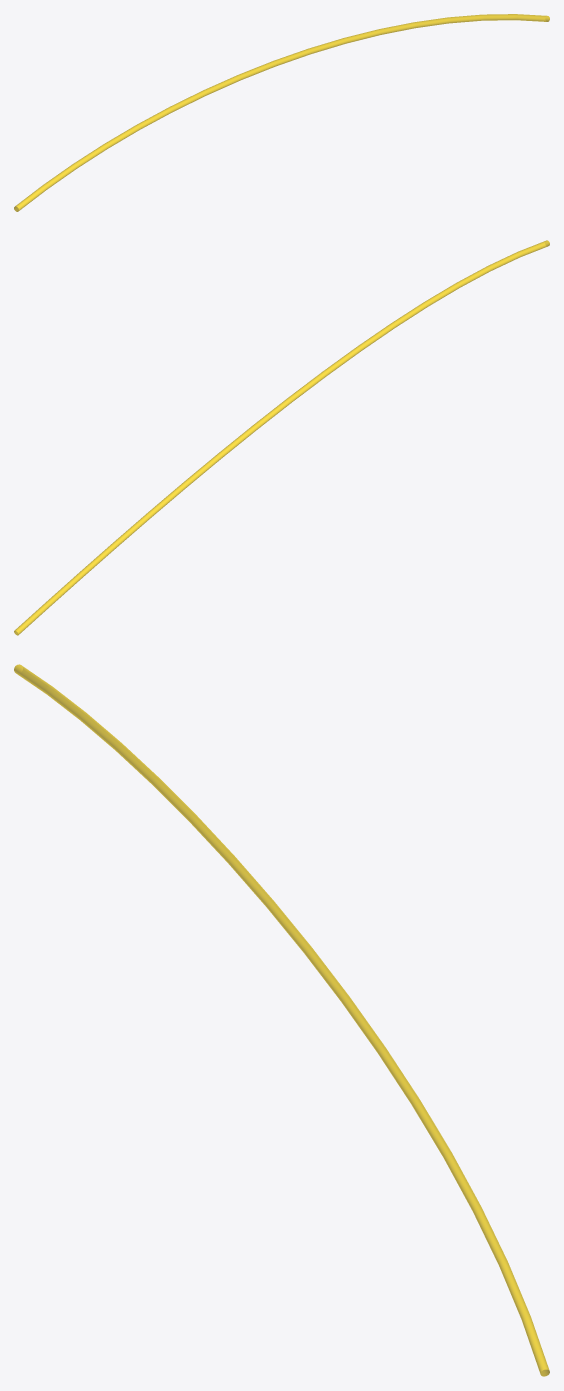
The model's file is Event_84804159_track_105.fbx.
3 renders of one model, top to bottom at view 1: azimuth 30°, elevation 25°; view 2: azimuth 210°, elevation 25°; view 3: azimuth 270°, elevation 25°, orthographic. The views are drawn at different scales.
Parts seen in each view (by area): view 1: Model; view 2: Model; view 3: Model.
Boxes of the visible parts, x1,y1,x2,y2 form: Model: (14,14,549,211); Model: (14,240,549,635); Model: (14,664,549,1376).
Size of the model in its own units: 5.22 by 0.8263 by 2.17.
